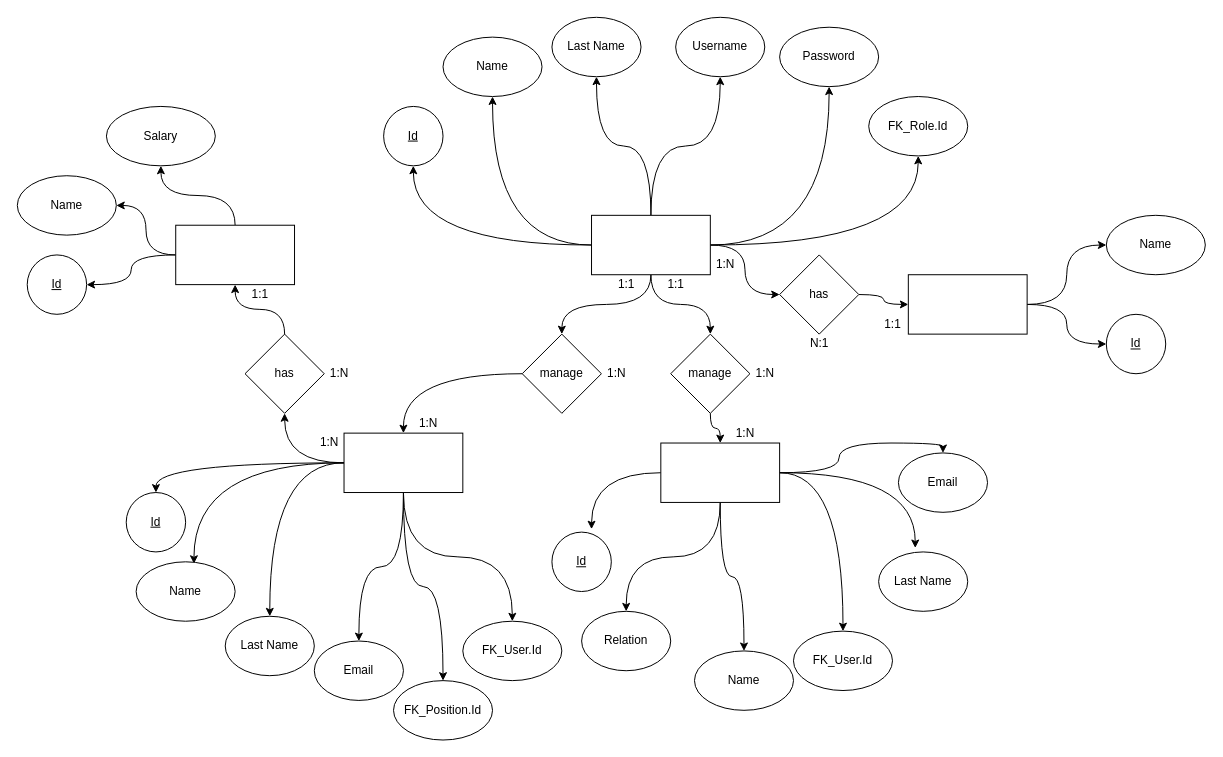
Image size: 1223x757. Some labels were removed from this diagram. Here are the shapes that lost their labels. From the top down, the box of each, then its label:
(175, 224, 295, 285): Position
(591, 214, 710, 275): User
(907, 274, 1027, 334): Role
(343, 432, 463, 493): Employee
(660, 442, 780, 502): Contact
